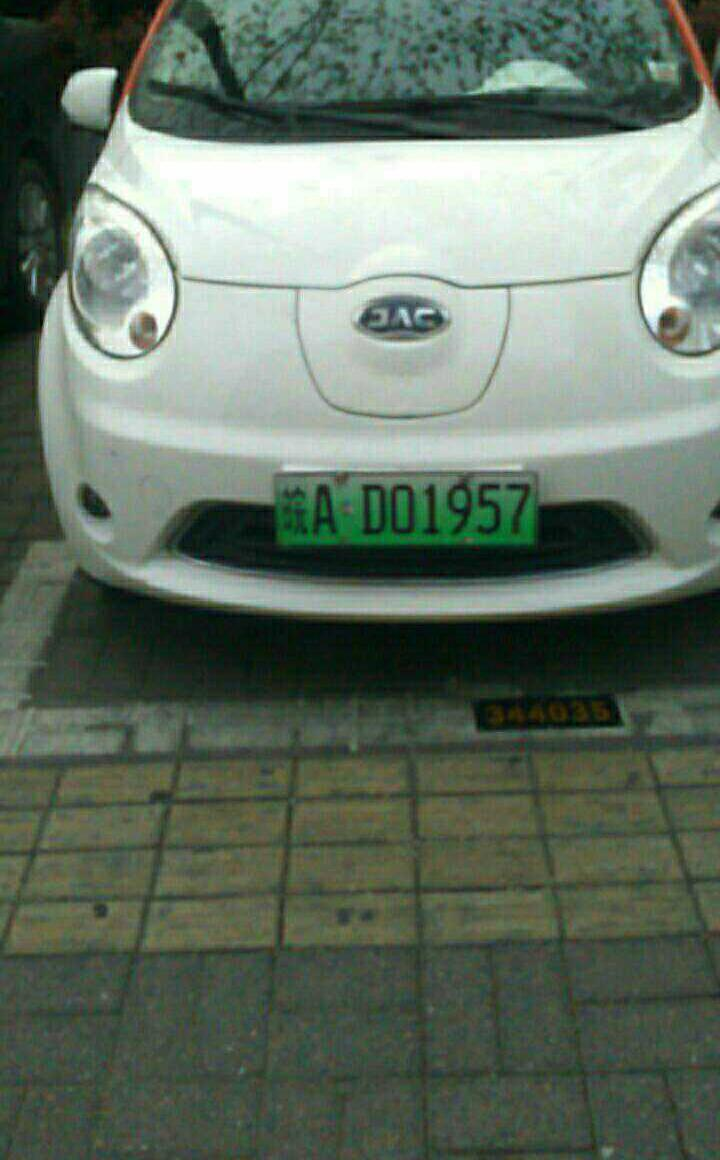car: (271, 469, 546, 565)
